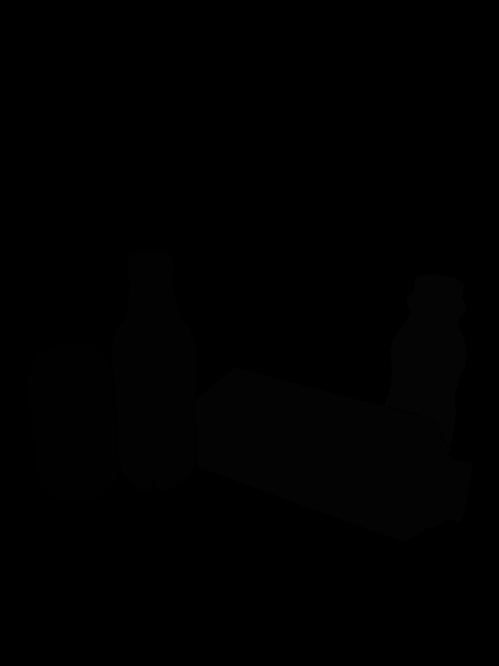can: (22, 341, 121, 503)
carton: (191, 365, 476, 546)
milk_bottle: (382, 271, 470, 468)
water_bottle: (110, 249, 197, 495)
